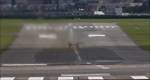maybay_muctieu: (65, 37, 82, 49)
